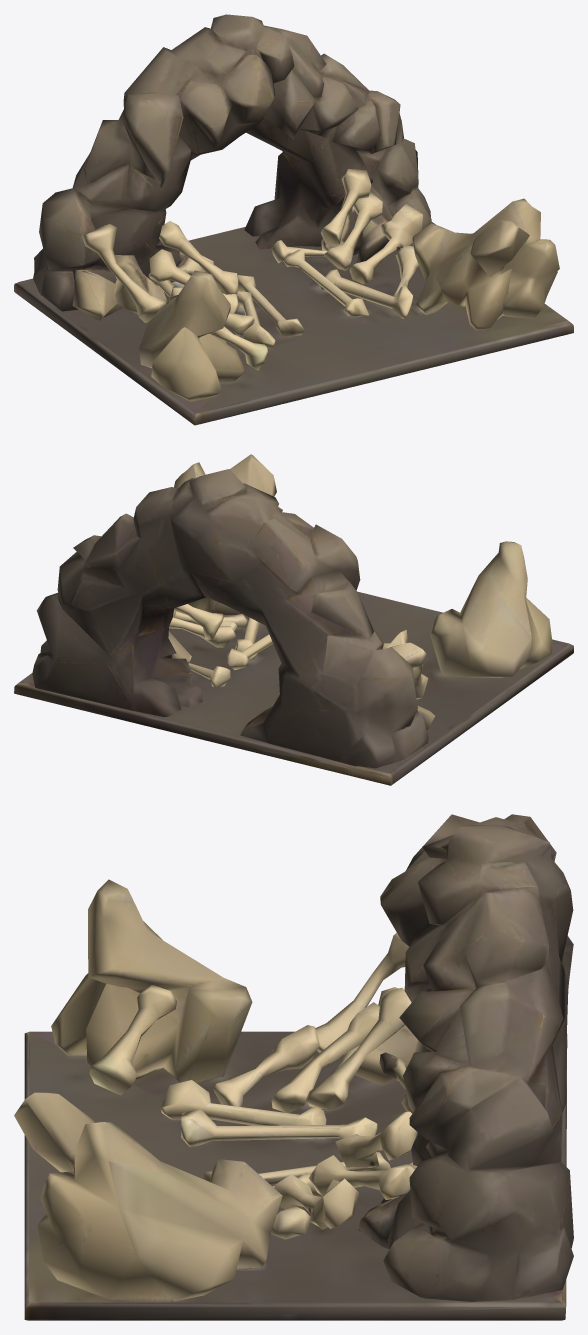
Rendered from cave_mouth.glb.
3 views of the same model, one above another, from view 1: azimuth 30°, elevation 25°; view 2: azimuth 150°, elevation 25°; view 3: azimuth 270°, elevation 25° (orthographic). The views are drawn at different scales.
Bounding box in the file's own units: 0.9536 × 0.5757 × 0.8027.
Materials: 1 (1 with a texture image).
